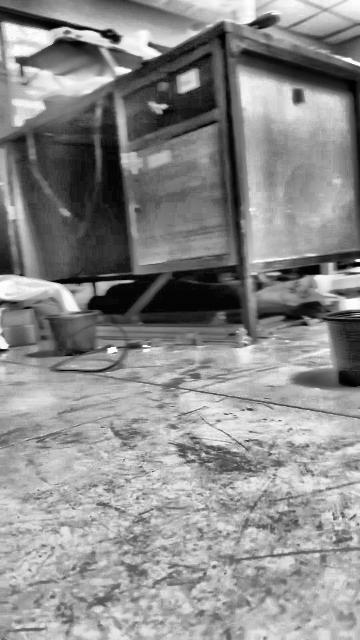pot: (321, 309, 360, 388)
